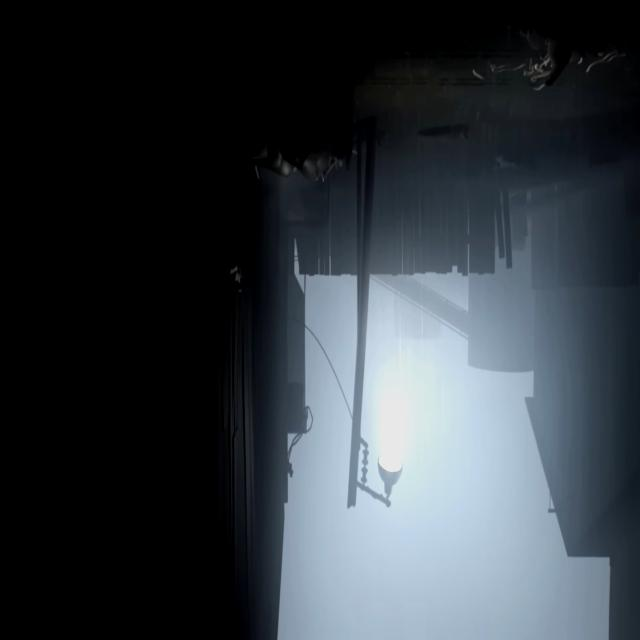boy: (230, 210, 247, 294)
